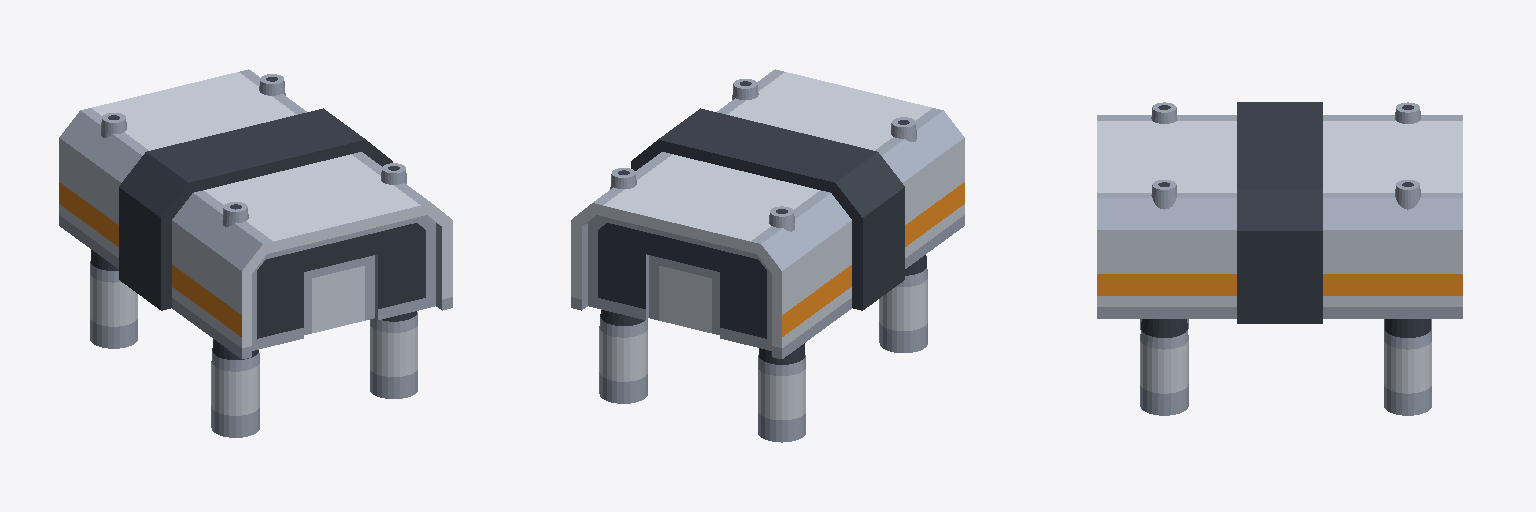
The model's file is buildings_5.obj.
3 views of the same model, side by side, from view 1: azimuth 30°, elevation 25°; view 2: azimuth 150°, elevation 25°; view 3: azimuth 270°, elevation 25° (orthographic).
Parts seen in each view (by area): view 1: chimney_detailed; view 2: chimney_detailed; view 3: chimney_detailed.
Boxes of the visible parts, x1,y1,x2,y2 form: chimney_detailed: [59, 69, 452, 437]; chimney_detailed: [571, 69, 964, 442]; chimney_detailed: [1097, 102, 1462, 415].
Bounding box in the file's own units: 2.2 × 2 × 3.